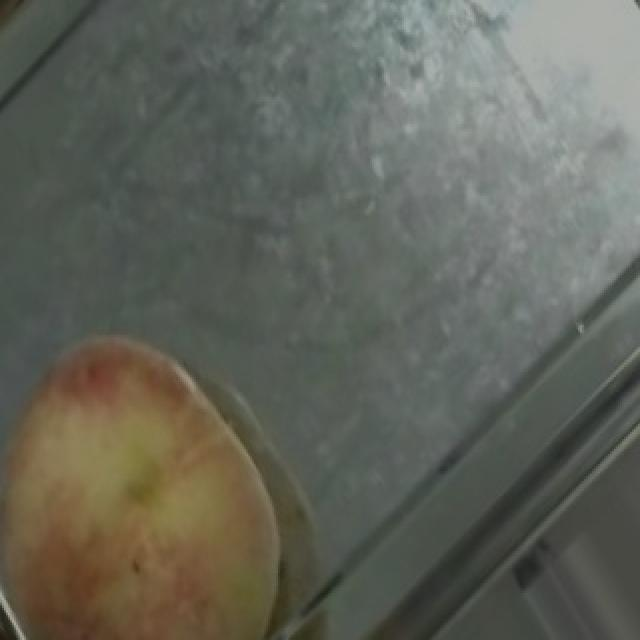Fruit: (0, 297, 304, 640)
